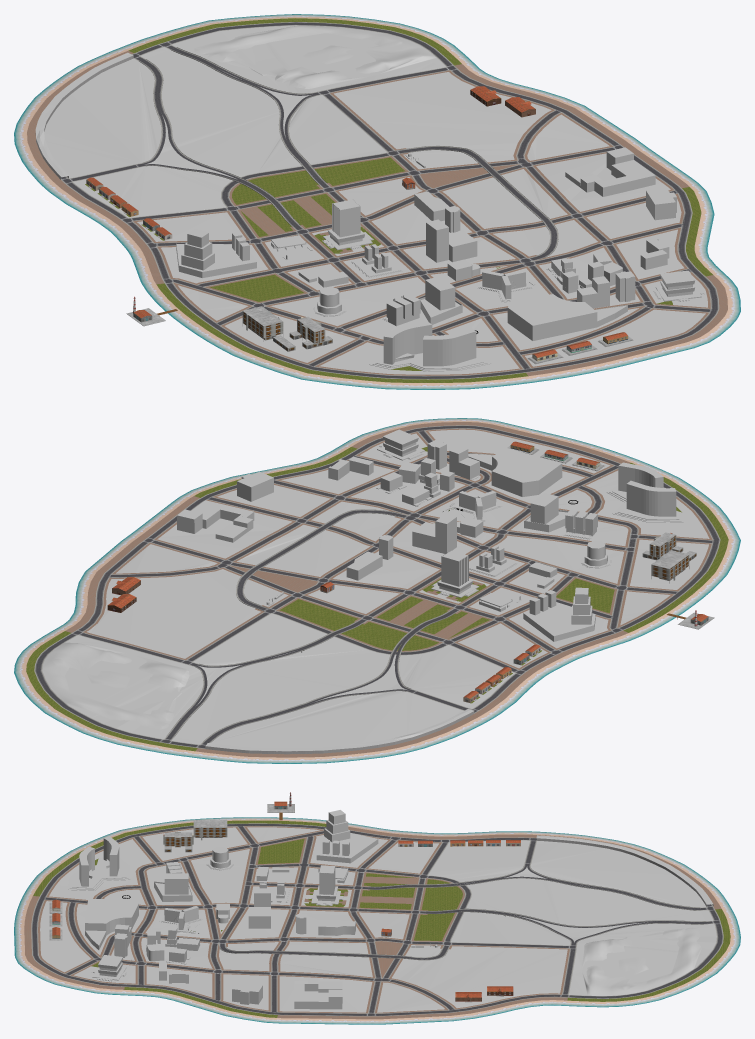
File: Open World Big.fbx
The picture shows the model from 3 angles, top to bottom: view 1: azimuth 30°, elevation 25°; view 2: azimuth 150°, elevation 25°; view 3: azimuth 270°, elevation 25°; orthographic projection. The views are drawn at different scales.
Parts seen in each view (by area): view 1: Line110, Box150, Line123, Line122, Line116, Line099, Box463, Line107, Box444, Box382, Box466, Object044 (+9 smaller); view 2: Line110, Box150, Line123, Line122, Line116, Box463, Line099, Line107, Box444, Box382, Box466, Object044 (+8 smaller); view 3: Line110, Box150, Line123, Line122, Line116, Box463, Line099, Line107, Box382, Box444, Box466, Object044 (+7 smaller).
Boxes of the visible parts, box(x1,y1,x2,y2) form: Line110: box(27, 18, 727, 382); Box150: box(61, 22, 719, 379); Line123: box(14, 14, 740, 389); Line122: box(172, 25, 445, 88); Line116: box(369, 321, 491, 371); Line099: box(507, 294, 597, 340); Box463: box(176, 229, 256, 278); Line107: box(35, 52, 133, 179); Box444: box(322, 199, 373, 250); Box382: box(420, 276, 462, 324); Box466: box(653, 270, 704, 301); Object044: box(477, 270, 532, 302); Line110: box(26, 422, 728, 757); Box150: box(34, 425, 720, 748); Line123: box(14, 418, 740, 763); Line122: box(42, 635, 189, 739); Line116: box(606, 462, 683, 522); Box463: box(523, 587, 595, 641); Line099: box(491, 448, 562, 496); Line107: box(205, 709, 474, 754); Box444: box(431, 550, 479, 597); Box382: box(524, 493, 578, 532); Box466: box(377, 429, 424, 460); Object044: box(452, 491, 502, 521); Line110: box(24, 820, 730, 1019); Box150: box(31, 823, 723, 1016); Line123: box(14, 817, 740, 1024); Line122: box(568, 924, 714, 995); Line116: box(68, 836, 130, 890); Box463: box(316, 810, 378, 863); Line099: box(85, 899, 138, 935); Line107: box(536, 835, 713, 906); Box382: box(154, 873, 192, 901); Box444: box(308, 865, 343, 905); Box466: box(91, 955, 126, 981); Object044: box(160, 906, 202, 932).
Size of the model in its own units: 753 by 50.03 by 1058.
